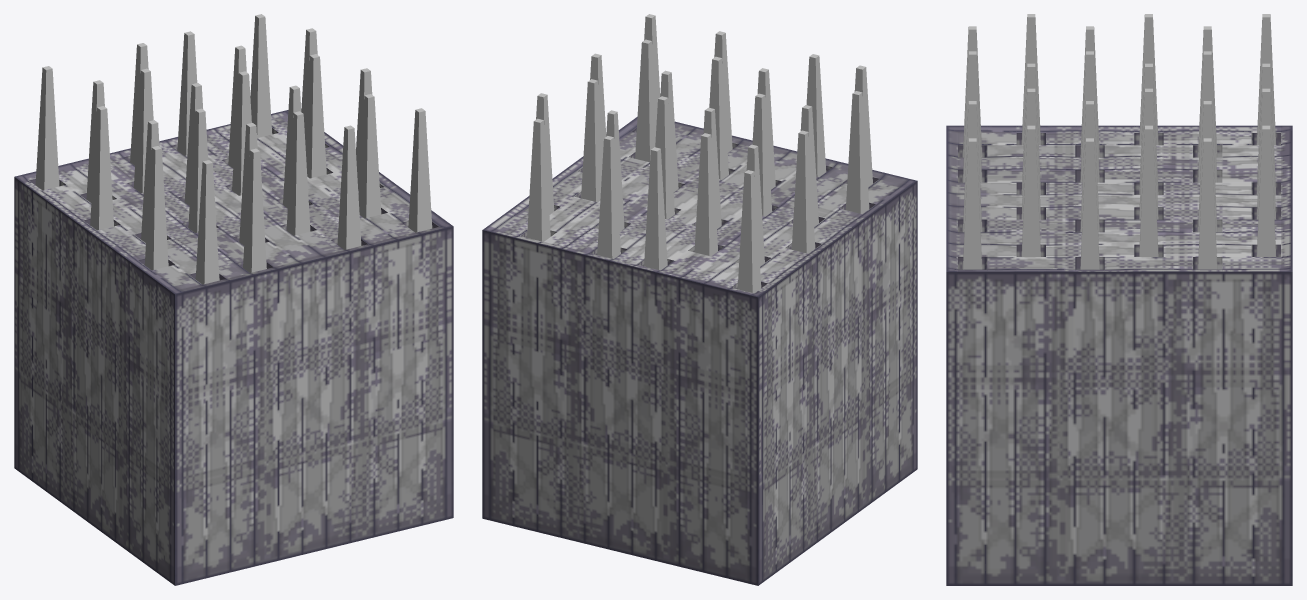
Rendered from Metal_Spike_Core.obj.
The picture shows the model from 3 angles, left to right: view 1: azimuth 30°, elevation 25°; view 2: azimuth 150°, elevation 25°; view 3: azimuth 270°, elevation 25°; orthographic projection. The views are drawn at different scales.
Parts seen in each view (by area): view 1: Cube, Cube.001; view 2: Cube, Cube.001; view 3: Cube, Cube.001.
Boxes of the visible parts, x1,y1,x2,y2 form: Cube: (14, 110, 453, 585); Cube.001: (35, 14, 432, 284); Cube: (482, 116, 917, 585); Cube.001: (527, 14, 872, 293); Cube: (946, 125, 1292, 585); Cube.001: (962, 14, 1276, 269).
Bounding box in the file's own units: 0.5 × 0.6928 × 0.5.
